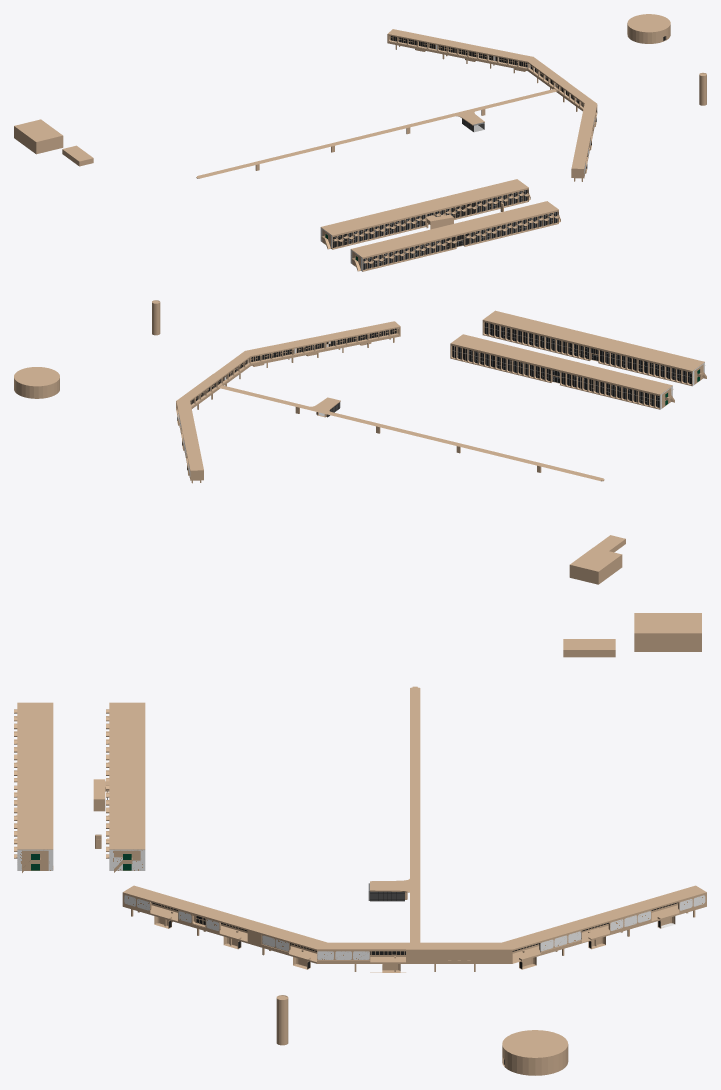
File: td to bib.gltf
The picture shows the model from 3 angles, top to bottom: view 1: azimuth 30°, elevation 25°; view 2: azimuth 150°, elevation 25°; view 3: azimuth 270°, elevation 25°; orthographic projection. The views are drawn at different scales.
Visible parts, largest first — view 1: biblio + fac, 100-200, 300-400; view 2: biblio + fac, 100-200, 300-400; view 3: biblio + fac, 100-200, 300-400.
Boxes of the visible parts, <box> form: biblio + fac: <box>14,14,706,181</box>; 100-200: <box>320,179,530,249</box>; 300-400: <box>350,201,560,271</box>; biblio + fac: <box>14,300,625,584</box>; 100-200: <box>450,334,674,409</box>; 300-400: <box>482,310,706,386</box>; biblio + fac: <box>122,613,706,1075</box>; 100-200: <box>93,702,145,872</box>; 300-400: <box>14,702,53,872</box>.
Bounding box in the file's own units: 796 × 37.71 × 522.
1 material, 1 textured.
